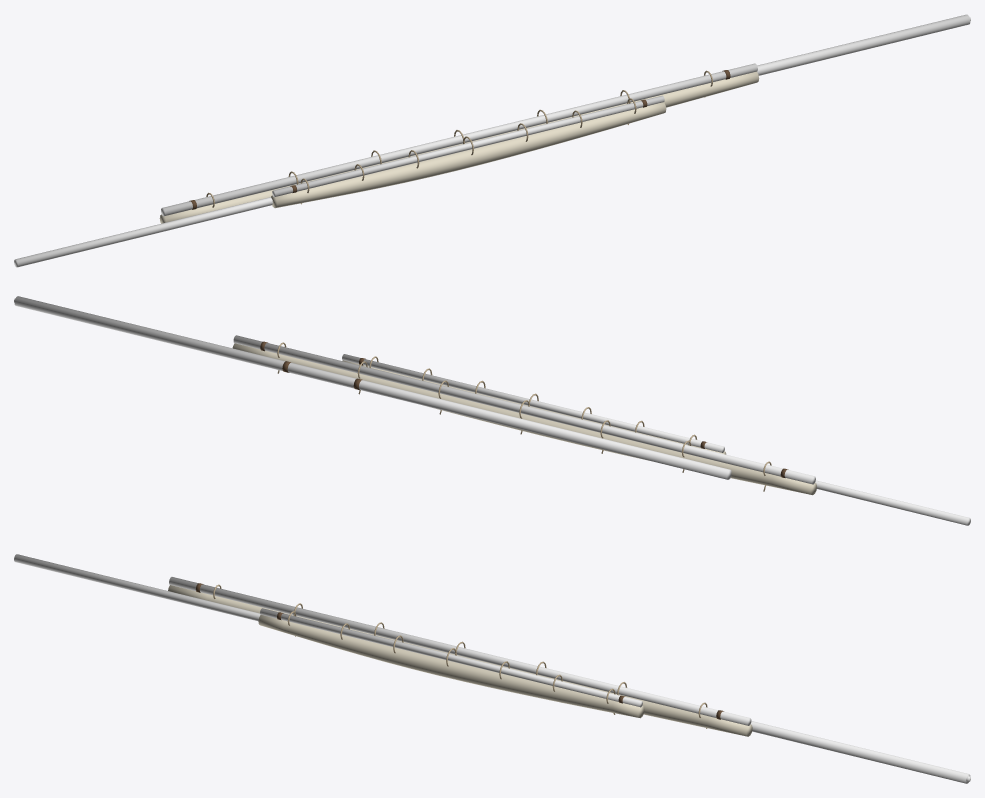
Rendered from rig_stowed.fbx.
3 renders of one model, top to bottom at view 1: azimuth 30°, elevation 25°; view 2: azimuth 150°, elevation 25°; view 3: azimuth 330°, elevation 25°, orthographic. The views are drawn at different scales.
Parts seen in each view (by area): view 1: Rig_Stowed; view 2: Rig_Stowed; view 3: Rig_Stowed.
Boxes of the visible parts, bbox=[...] form: Rig_Stowed: bbox=[14, 14, 970, 267]; Rig_Stowed: bbox=[14, 296, 970, 525]; Rig_Stowed: bbox=[14, 554, 970, 783].
Bounding box in the file's own units: 745 × 23.68 × 30.8.
